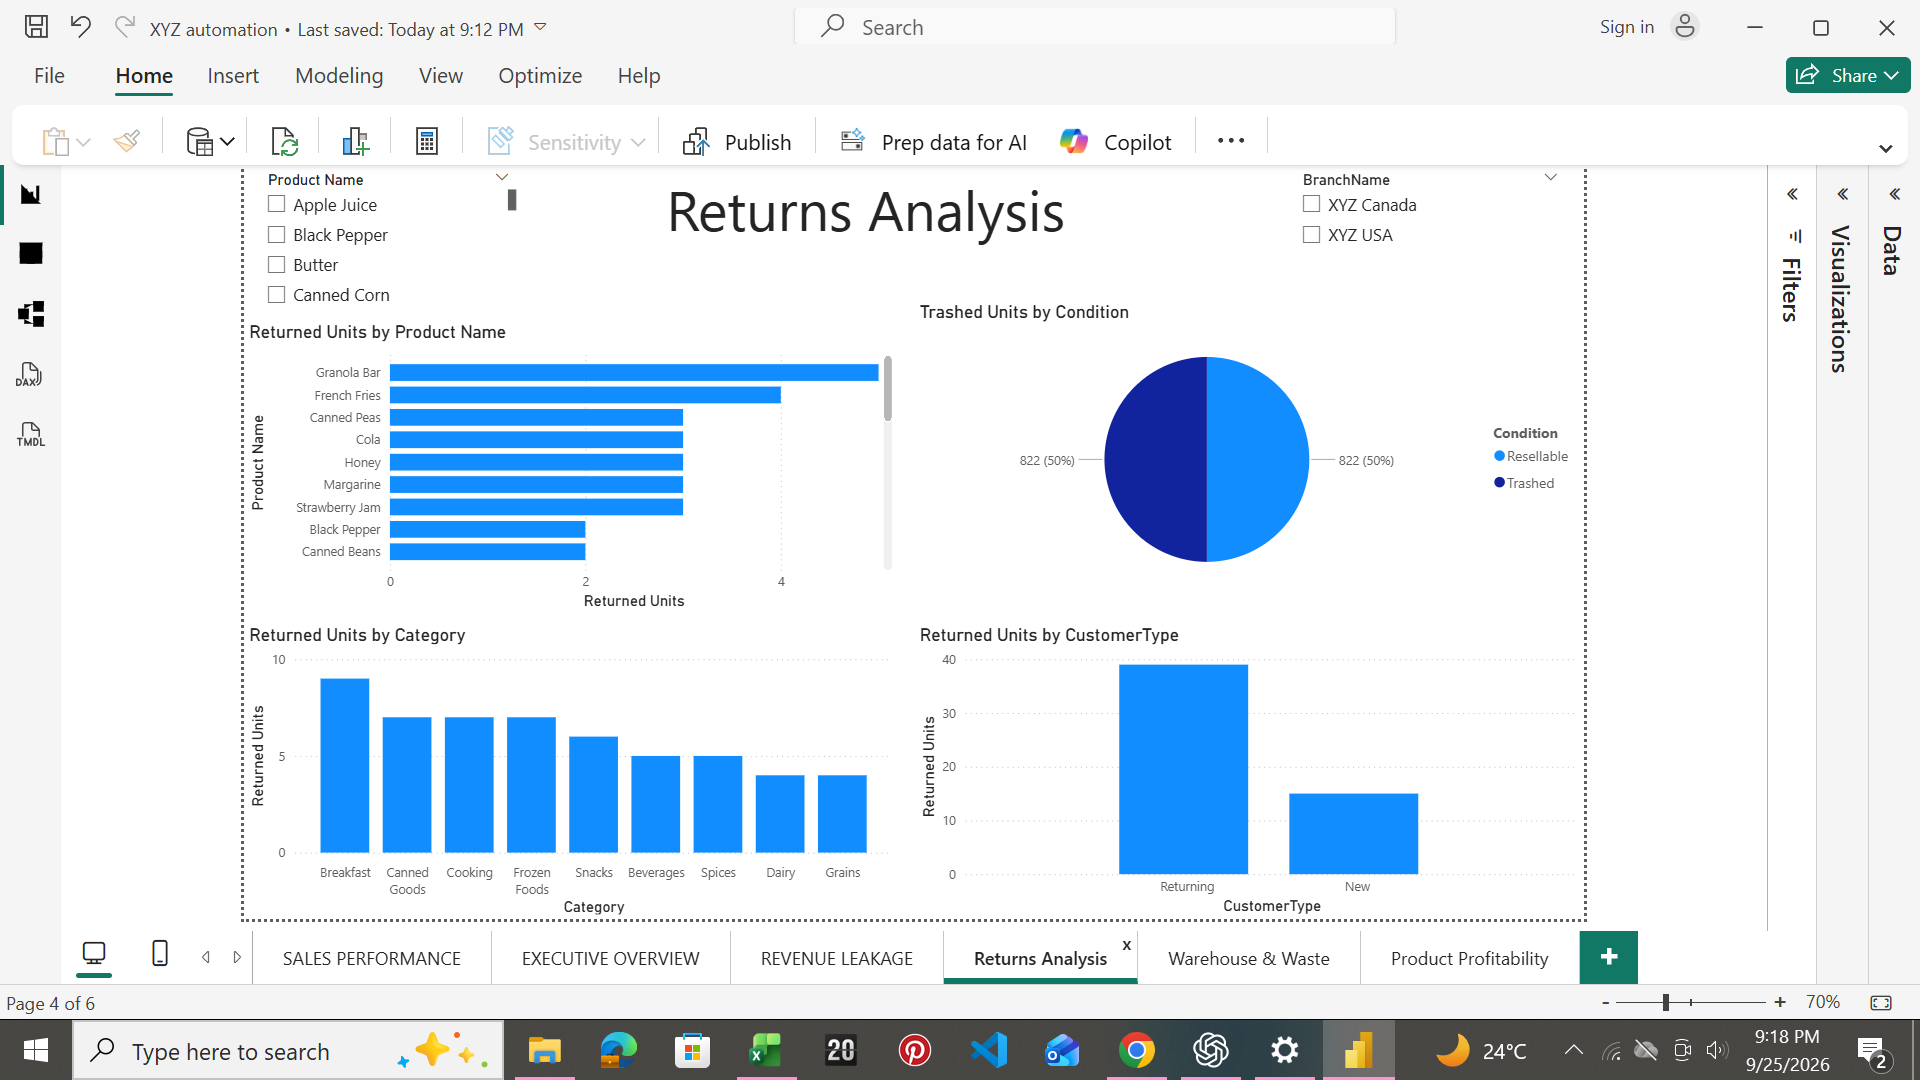

The dashboard page shown, as its layout file describes it:
{"tool":"powerbi","page":{"name":"Returns Analysis","canvas":[1280,720],"ordinal":3},"visuals":[{"type":"clusteredBarChart","fields":{"Y":["Table.Returned Units"],"Category":["stg order_items.Product Name"]},"box":[0,149.3,623.6,279.7],"z":0},{"type":"pieChart","fields":{"Category":["stg returns.Condition"],"Y":["Table.Trashed Units"]},"box":[640.6,130.4,638.7,281.6],"z":1},{"type":"columnChart","fields":{"Category":["stg customers.CustomerType"],"Y":["Table.Returned Units"]},"box":[640.6,438.4,638.7,281.6],"z":2},{"type":"textbox","box":[398.7,0,466.8,90.7],"z":3},{"type":"slicer","fields":{"Values":["stg order_items.Product Name"]},"box":[9.4,0,255.1,149.3],"z":4},{"type":"slicer","fields":{"Values":["stg branches.BranchName"]},"box":[997.8,0,268.3,149.3],"z":5},{"type":"clusteredColumnChart","fields":{"Y":["Table.Returned Units"],"Category":["stg products.Category"]},"box":[0,438,624,282],"z":6}]}

Visuals, with their boxes on the page's 1280x720 design canvas (x1, y1, x2, y2). These are canvas units, not pixel positions in the 1920x1080 screenshot, which may show the page scaled, cropped or inside an application window:
clusteredBarChart - Table.Returned Units x stg order_items.Product Name: Rect(0, 149, 624, 429)
pieChart - stg returns.Condition x Table.Trashed Units: Rect(641, 130, 1279, 412)
columnChart - stg customers.CustomerType x Table.Returned Units: Rect(641, 438, 1279, 720)
textbox: Rect(399, 0, 866, 91)
slicer - stg order_items.Product Name: Rect(9, 0, 264, 149)
slicer - stg branches.BranchName: Rect(998, 0, 1266, 149)
clusteredColumnChart - Table.Returned Units x stg products.Category: Rect(0, 438, 624, 720)
